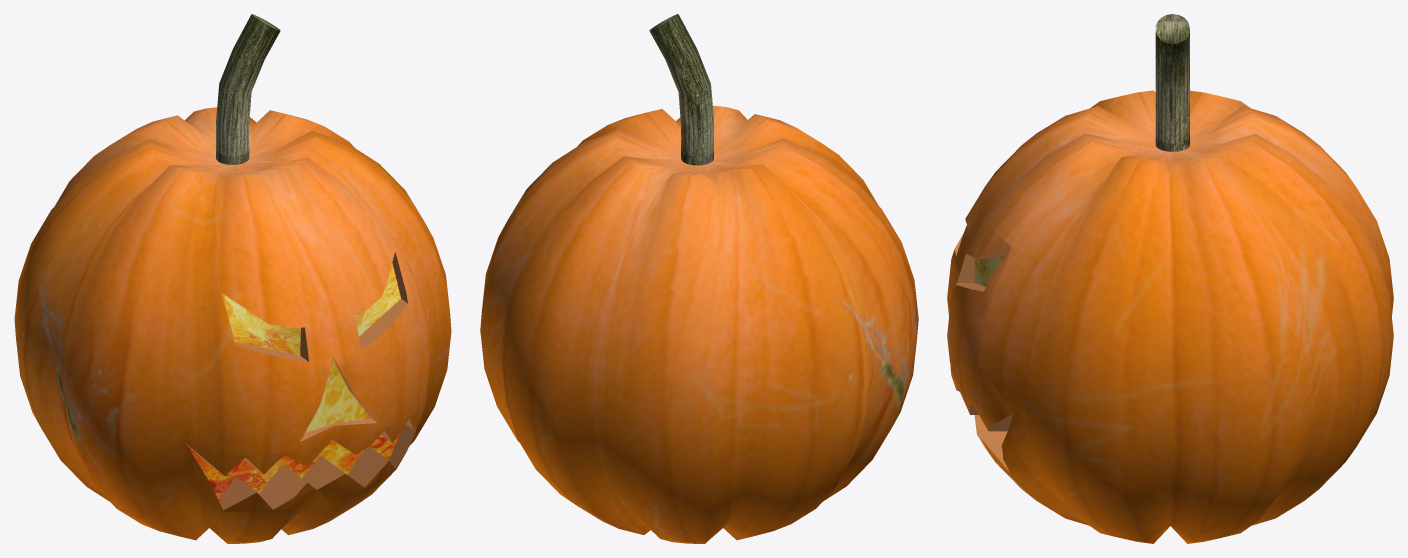
The model's file is Pumpkin.FBX.
3 renders of one model, left to right at view 1: azimuth 30°, elevation 25°; view 2: azimuth 150°, elevation 25°; view 3: azimuth 270°, elevation 25°, orthographic. The views are drawn at different scales.
Visible parts, largest first — view 1: Pumpkin; view 2: Pumpkin; view 3: Pumpkin.
Boxes of the visible parts, left/top/right/bottom form: Pumpkin: left=14, top=14, right=451, bottom=543; Pumpkin: left=480, top=14, right=918, bottom=543; Pumpkin: left=947, top=14, right=1393, bottom=543.
Bounding box in the file's own units: 139 × 174 × 139.
